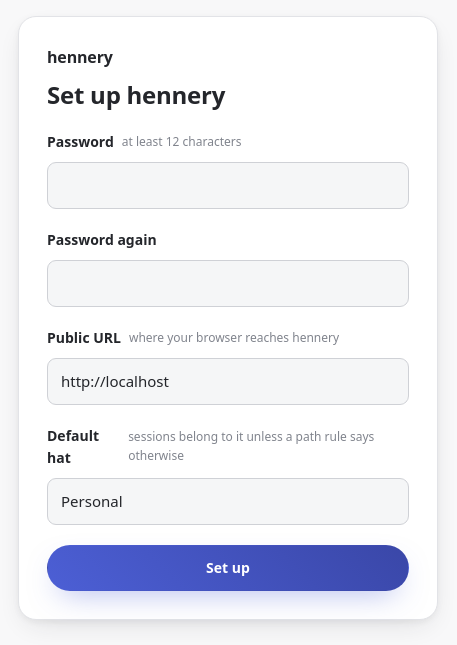
Test: setup › points to sign-in once set up already
Type "correct horse battery" into the password field labelled "Password at least 12 characters" at (228, 186), box left=47, top=162, right=409, bottom=209
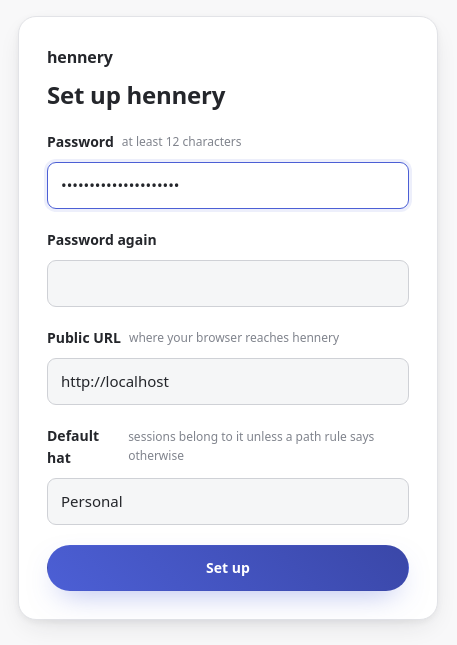
Type "correct horse battery" into the password field labelled "Password again" at (228, 284), box left=47, top=260, right=409, bottom=307
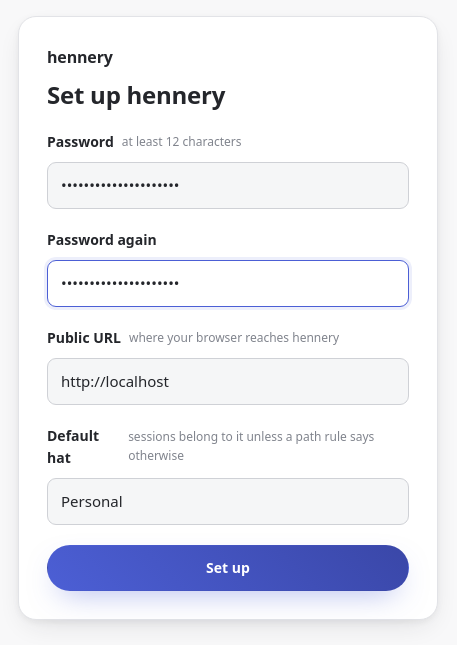
Click the button "Set up" at (228, 568), box left=47, top=545, right=409, bottom=591
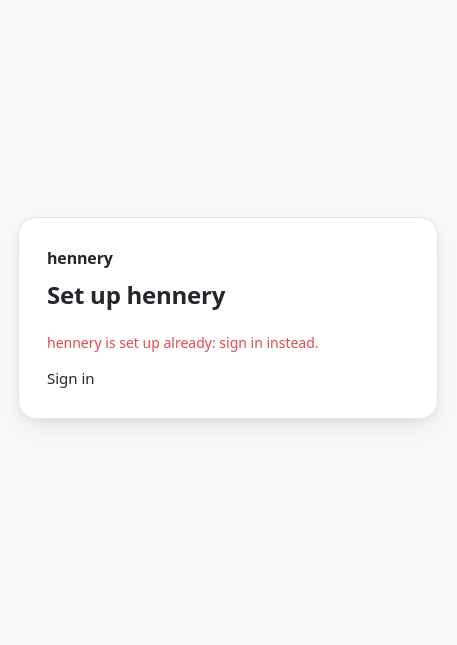
Now the message "hennery is set up already: sign in instead." is shown, box left=47, top=332, right=319, bottom=352
